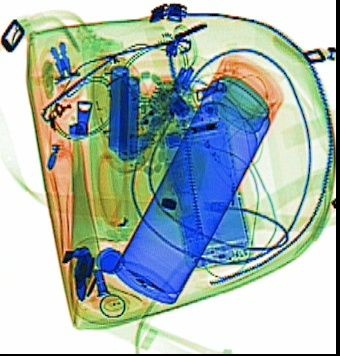powerbank: (101, 50, 146, 174)
